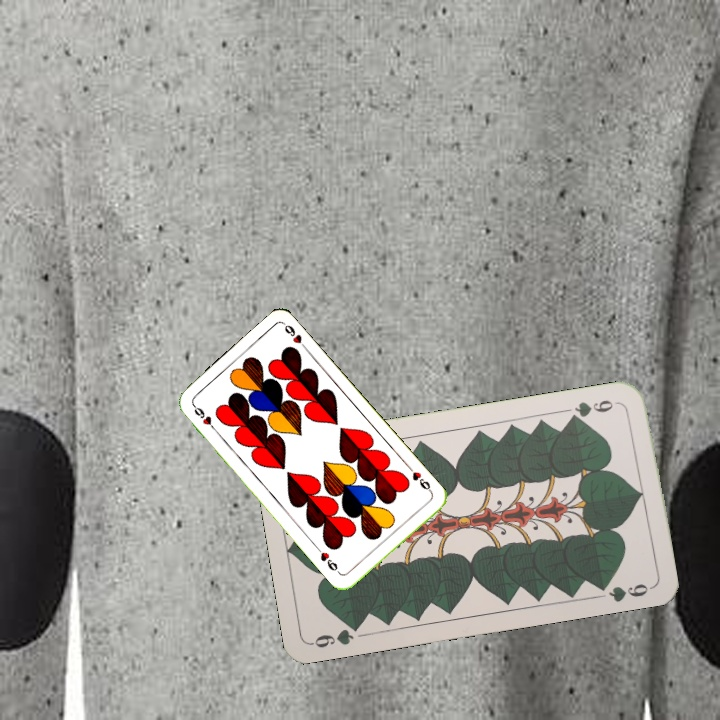G9: (308, 619, 365, 651), (565, 396, 623, 423)
H9: (404, 462, 435, 496), (189, 400, 219, 434)
